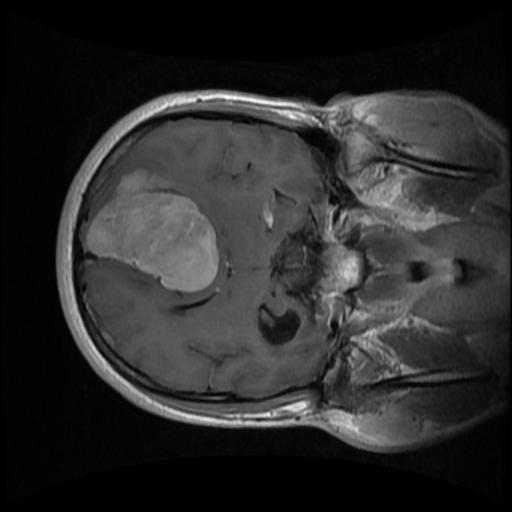meningioma: (85, 166, 219, 293)
